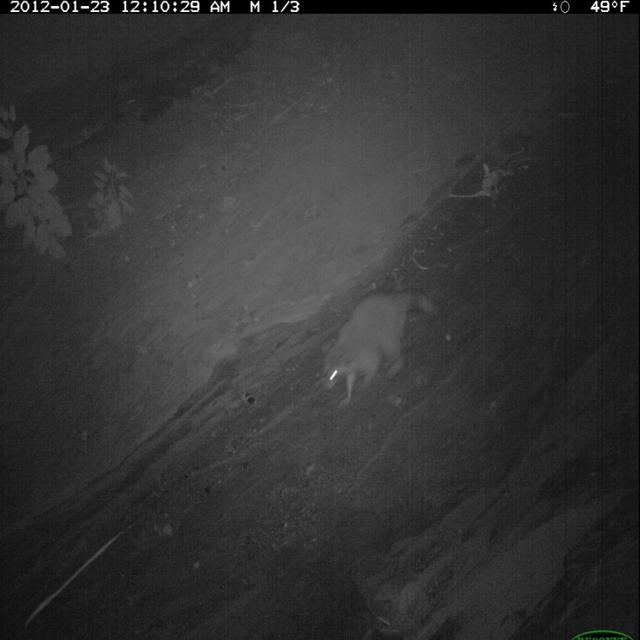raccoon: (318, 282, 442, 415)
